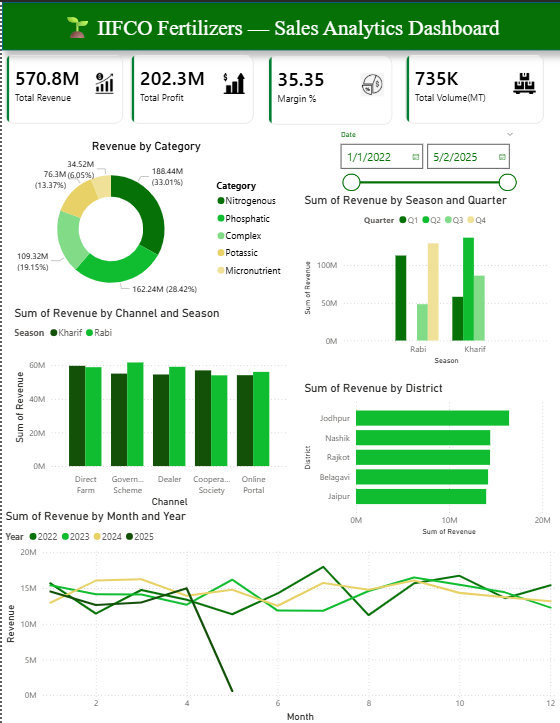

The dashboard page shown, as its layout file describes it:
{"tool":"powerbi","page":{"name":"Page 1","canvas":[816,1056],"ordinal":0},"visuals":[{"type":"shape","box":[0,0,815.7,70.8],"z":0},{"type":"slicer","title":"Slicer","fields":{"Values":["Raw Data.Date"]},"box":[482.5,182.5,277.5,120],"z":1000},{"type":"cardVisual","fields":{"Data":["Raw Data.Total Revenue"]},"box":[0,71.2,182.5,111.2],"z":2000},{"type":"donutChart","title":"Revenue by Category","fields":{"Y":["Sum(Raw Data.Revenue)"],"Category":["Raw Data.Category"]},"box":[0,200,421.2,242.5],"z":4000},{"type":"lineChart","fields":{"Category":["Raw Data.Month"],"Y":["Sum(Raw Data.Revenue)"],"Series":["Raw Data.Year"]},"box":[0,741.4,815.7,315],"z":5000},{"type":"clusteredBarChart","fields":{"Category":["Raw Data.District"],"Y":["Sum(Raw Data.Revenue)"]},"box":[436.2,552.5,370,231.2],"z":6000},{"type":"clusteredColumnChart","fields":{"Category":["Raw Data.Channel"],"Y":["Sum(Raw Data.Revenue)"],"Series":["Raw Data.Season"]},"box":[12.5,442.5,408.8,298.8],"z":7000},{"type":"clusteredColumnChart","fields":{"Category":["Raw Data.Season"],"Y":["Sum(Raw Data.Revenue)"],"Series":["Raw Data.Quarter"]},"box":[436.2,280,367.5,255],"z":8000},{"type":"cardVisual","fields":{"Data":["Table 1 (Executive Dashboard).Margin %"]},"box":[383.8,72.5,191.2,111.2],"z":9000},{"type":"cardVisual","fields":{"Data":["Raw Data.Total Profit"]},"box":[182.5,71.2,190,111.2],"z":10000},{"type":"cardVisual","fields":{"Data":["Table 1 (Executive Dashboard).Total Volume(MT)"]},"box":[583.8,71.2,212.5,111.2],"z":11000}]}

Visuals, with their boxes in screenshot pixels (x1, y1, x2, y2), scaled from the page's 816x1056 canvas onto the 560x723 screenshot:
shape: bbox(0, 0, 559, 48)
"Slicer" slicer: bbox(331, 125, 522, 207)
cardVisual - Raw Data.Total Revenue: bbox(0, 49, 125, 125)
"Revenue by Category" donutChart: bbox(0, 137, 289, 303)
lineChart - Raw Data.Month x Sum(Raw Data.Revenue): bbox(0, 508, 559, 722)
clusteredBarChart - Raw Data.District x Sum(Raw Data.Revenue): bbox(299, 378, 553, 537)
clusteredColumnChart - Raw Data.Channel x Sum(Raw Data.Revenue): bbox(9, 303, 289, 508)
clusteredColumnChart - Raw Data.Season x Sum(Raw Data.Revenue): bbox(299, 192, 552, 366)
cardVisual - Table 1 (Executive Dashboard).Margin %: bbox(263, 50, 395, 126)
cardVisual - Raw Data.Total Profit: bbox(125, 49, 256, 125)
cardVisual - Table 1 (Executive Dashboard).Total Volume(MT): bbox(401, 49, 546, 125)
